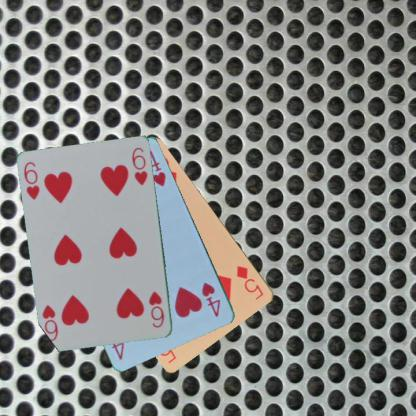4h: (199, 280, 222, 319)
5d: (234, 263, 265, 301)
6h: (22, 160, 42, 201), (146, 289, 166, 329)
